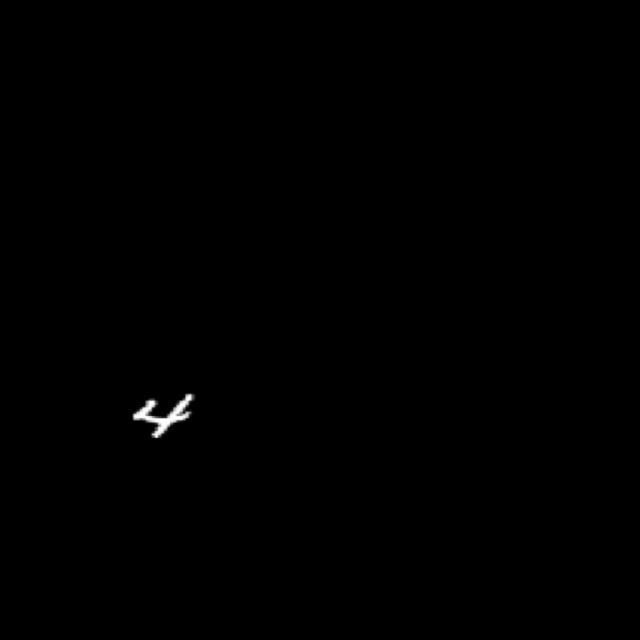four -4-: (110, 379, 220, 458)
